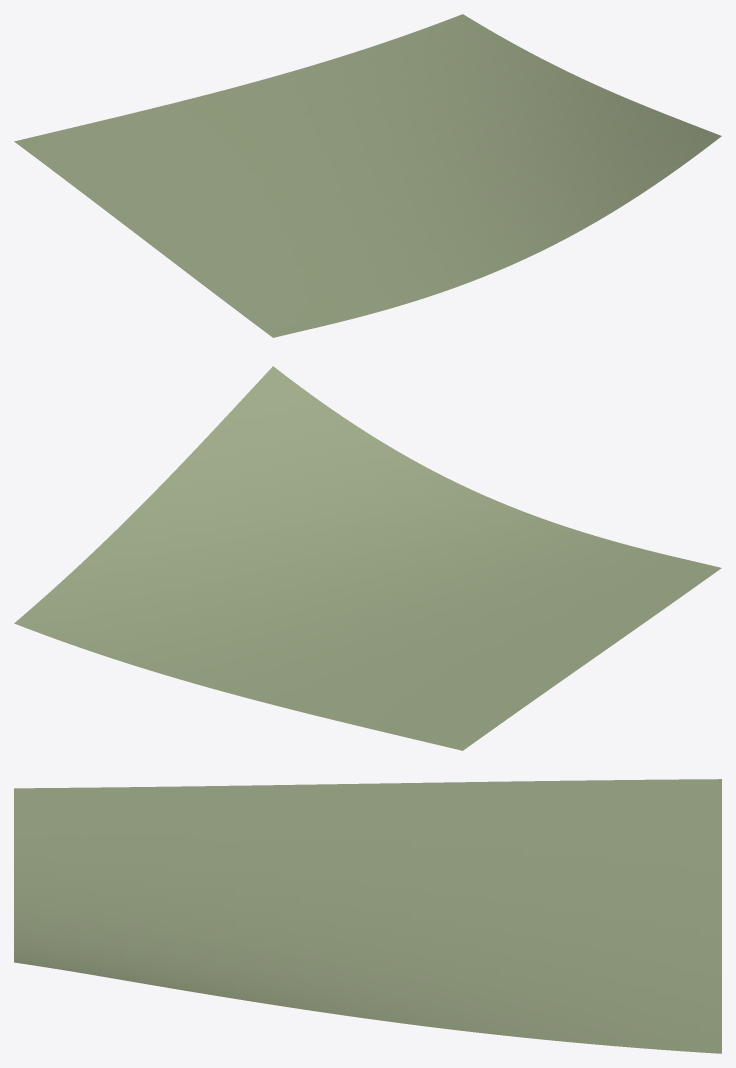
Rendered from expanse-21-21.glb.
The picture shows the model from 3 angles, top to bottom: view 1: azimuth 30°, elevation 25°; view 2: azimuth 150°, elevation 25°; view 3: azimuth 270°, elevation 25°; orthographic projection. The views are drawn at different scales.
Parts seen in each view (by area): view 1: expanse-21-21; view 2: expanse-21-21; view 3: expanse-21-21.
Boxes of the visible parts, box(x1,y1,x2,y2) form: expanse-21-21: box(14, 14, 721, 337); expanse-21-21: box(14, 366, 721, 750); expanse-21-21: box(14, 779, 721, 1053).
Size of the model in its own units: 256 by 50.59 by 256.
